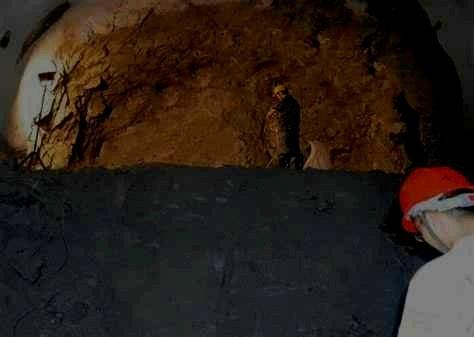helmet: (398, 167, 474, 254), (271, 84, 289, 101)
